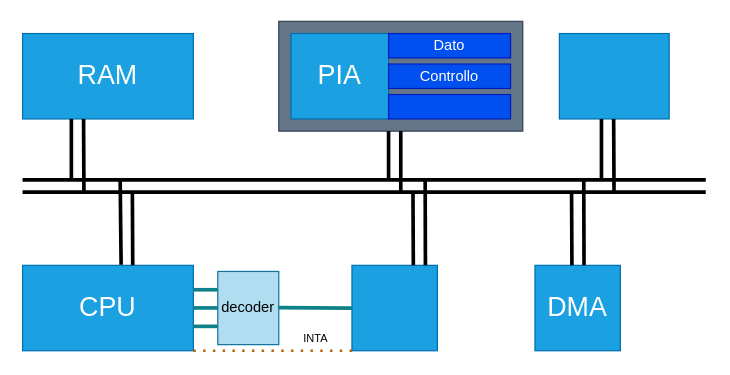
This 730x375 diagram has some shape labels left out. The shapes that lost their labels are listed below. From the top down, each one's centre as x and y in pixels, then its label:
the point at 613,75: TIMER
the point at 449,106: Stato
the point at 394,307: PIC
